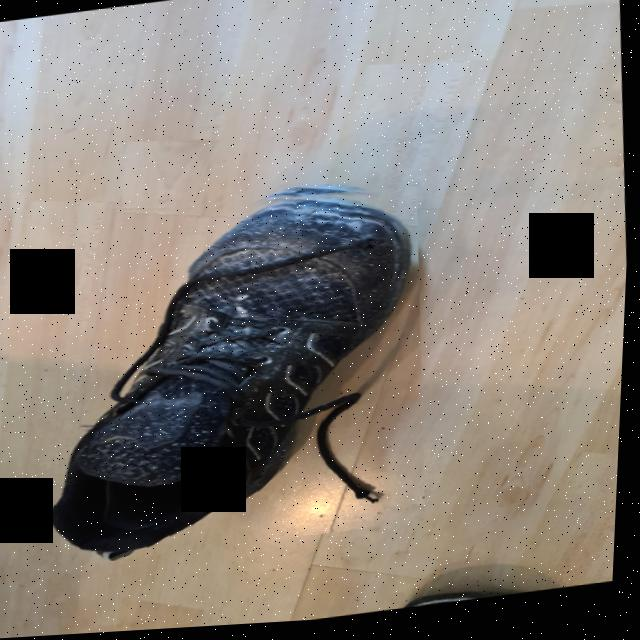shoe: (23, 173, 442, 571)
